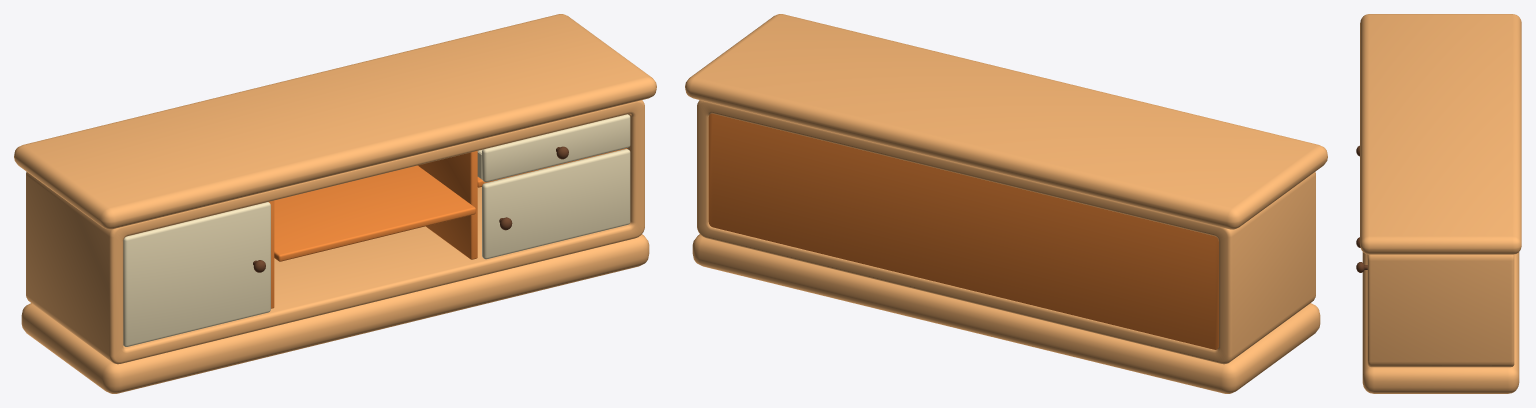
File: rack_longo_rodape_laranja.glb
3 views of the same model, side by side, from view 1: azimuth 30°, elevation 25°; view 2: azimuth 150°, elevation 25°; view 3: azimuth 270°, elevation 25° (orthographic). The views are drawn at different scales.
Parts seen in each view (by area): view 1: rack_longo_rodape_laranja, porta_1, porta_2, gaveta_1; view 2: rack_longo_rodape_laranja; view 3: rack_longo_rodape_laranja.
Part boxes in pixels (bbox=[...]): rack_longo_rodape_laranja: bbox=[14, 14, 656, 393]; porta_1: bbox=[123, 202, 270, 346]; porta_2: bbox=[482, 149, 630, 259]; gaveta_1: bbox=[477, 114, 630, 182]; rack_longo_rodape_laranja: bbox=[685, 14, 1327, 393]; rack_longo_rodape_laranja: bbox=[1360, 14, 1521, 393].
Bounding box in the file's own units: 1.66 × 0.54 × 0.5071.
1 material, 1 textured.
